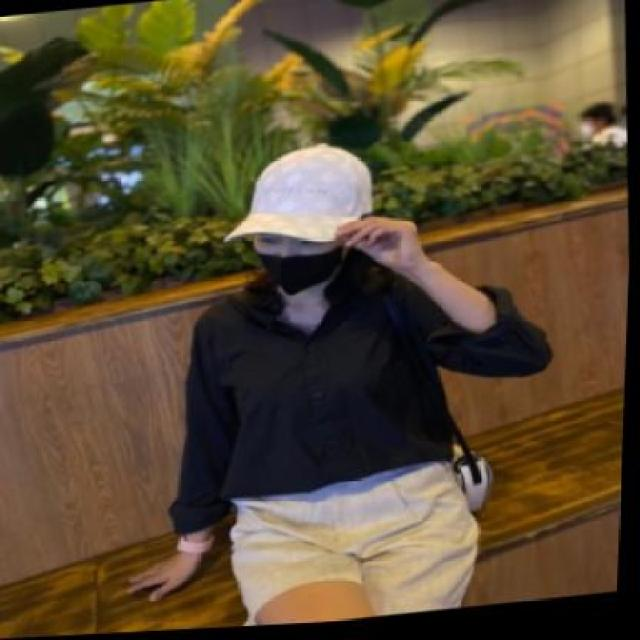hat: (221, 133, 390, 264)
